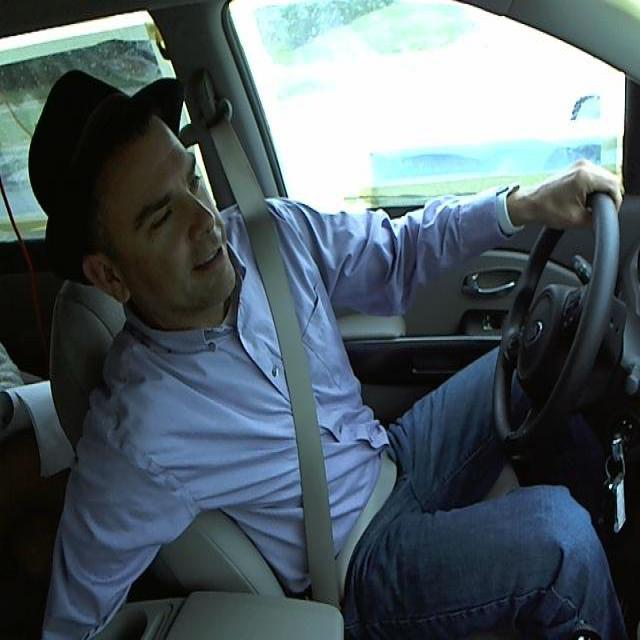seatbelt: (241, 225, 393, 588)
